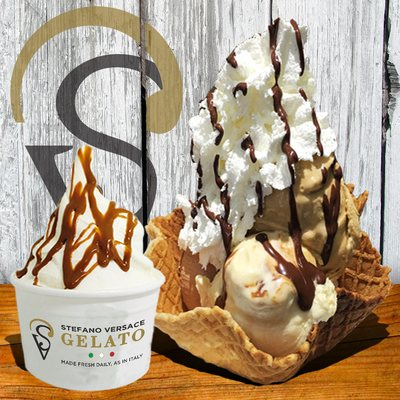pizza: (7, 252, 166, 391)
